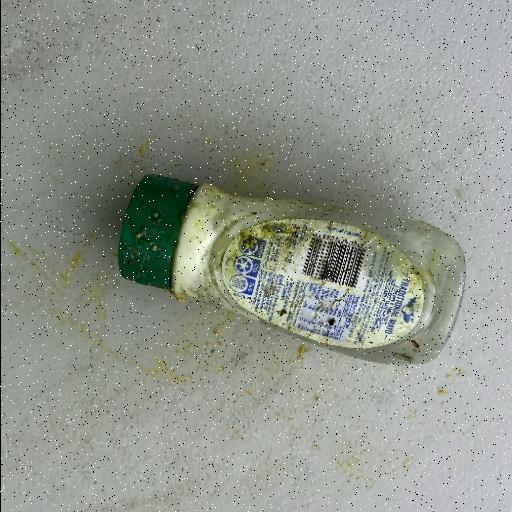Plastic: (114, 170, 468, 366)
